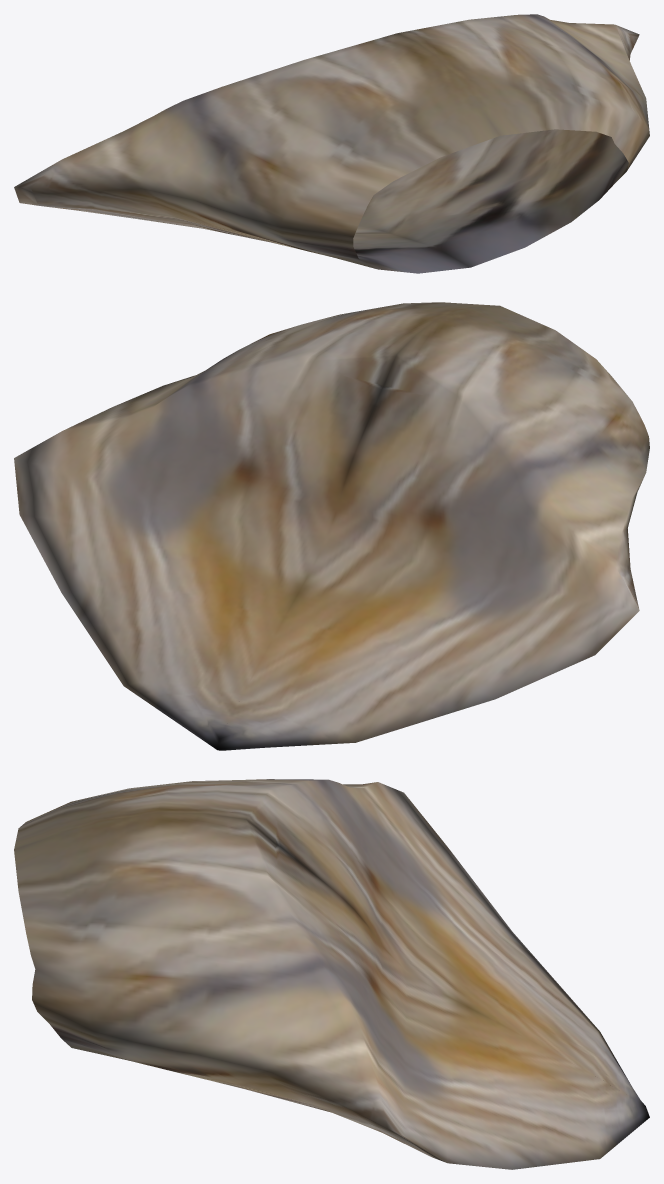
File: tail.obj
3 renders of one model, top to bottom at view 1: azimuth 30°, elevation 25°; view 2: azimuth 150°, elevation 25°; view 3: azimuth 270°, elevation 25°, orthographic. The views are drawn at different scales.
Visible parts, largest first — view 1: tail_Plane.003; view 2: tail_Plane.003; view 3: tail_Plane.003.
Part boxes in pixels (<box>): tail_Plane.003: <box>14,14,649,273</box>; tail_Plane.003: <box>14,302,649,750</box>; tail_Plane.003: <box>14,779,649,1169</box>.
Size of the model in its own units: 2.36 by 0.9883 by 1.84.
